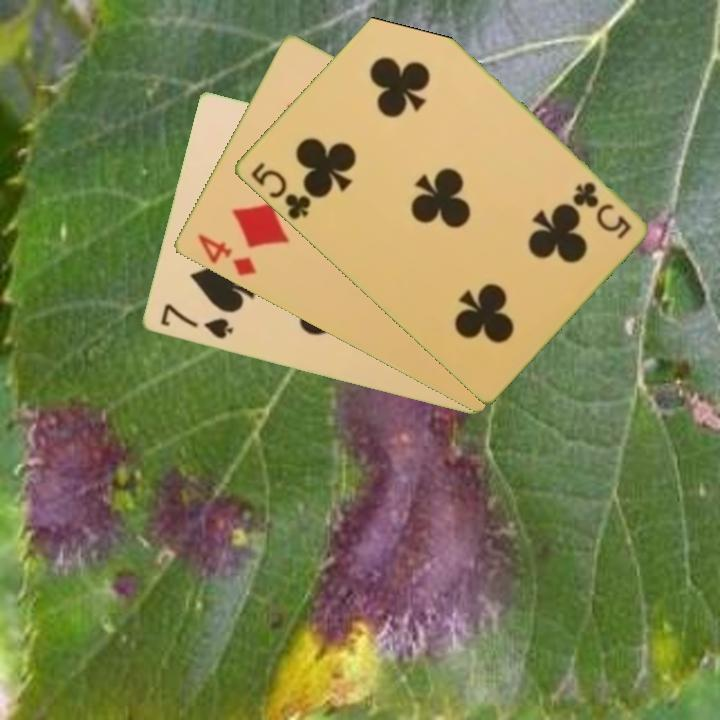4d: (193, 230, 258, 280)
5c: (247, 158, 316, 223), (569, 178, 634, 243)
7s: (156, 300, 236, 342)
